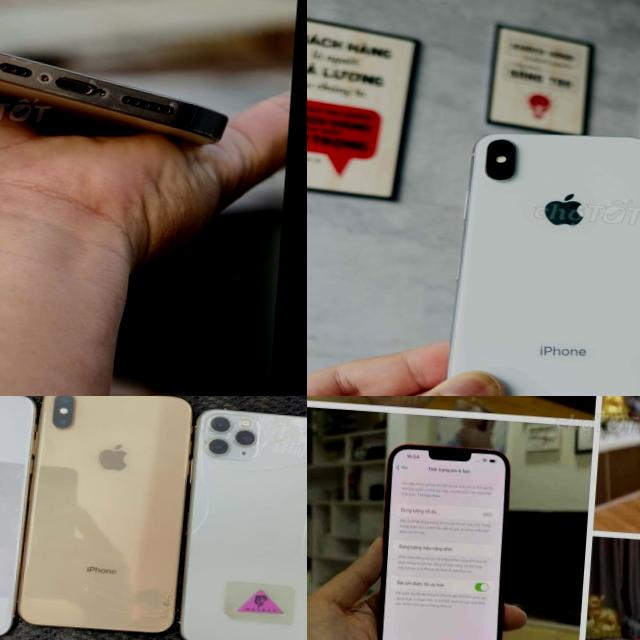physical_damage: (76, 575, 176, 630), (203, 412, 262, 458), (260, 416, 307, 470), (0, 434, 25, 512), (193, 458, 226, 502), (185, 120, 228, 150), (192, 504, 224, 537), (293, 524, 307, 569), (297, 567, 307, 608)
scratch: (82, 76, 120, 112), (0, 47, 46, 70), (30, 66, 52, 84), (161, 99, 179, 113)
